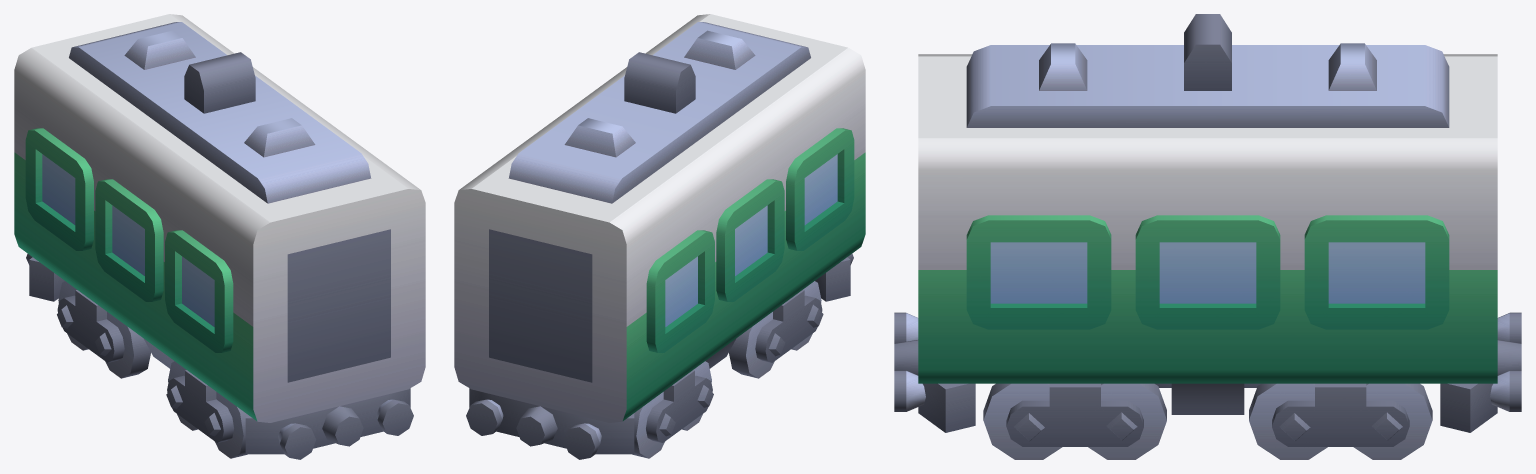
Rendered from kenney-train-train-electric-square-c.glb.
3 renders of one model, left to right at view 1: azimuth 30°, elevation 25°; view 2: azimuth 150°, elevation 25°; view 3: azimuth 270°, elevation 25°, orthographic. The views are drawn at different scales.
Visible parts, largest first — view 1: train-electric-square-c, wheels-back, wheels-front; view 2: train-electric-square-c, wheels-front, wheels-back; view 3: train-electric-square-c, wheels-front, wheels-back.
Boxes of the visible parts, bbox=[...] form: train-electric-square-c: bbox=[14, 14, 425, 459]; wheels-back: bbox=[57, 281, 150, 378]; wheels-front: bbox=[166, 361, 247, 458]; train-electric-square-c: bbox=[454, 14, 865, 459]; wheels-front: bbox=[729, 281, 823, 378]; wheels-back: bbox=[632, 361, 713, 458]; train-electric-square-c: bbox=[894, 14, 1521, 432]; wheels-front: bbox=[983, 383, 1166, 459]; wheels-back: bbox=[1249, 383, 1432, 459].
Size of the model in its own units: 1.1 by 1.78 by 2.6.
Materials: 1 (1 with a texture image).
